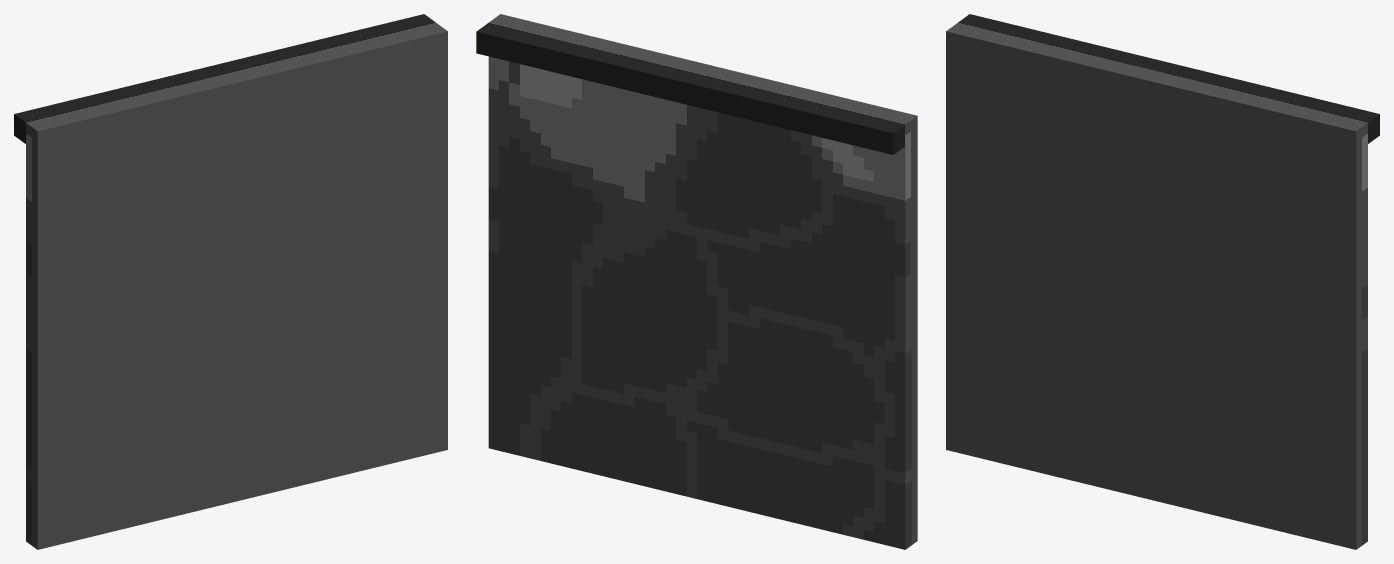
File: WallNether_ML.fbx
The picture shows the model from 3 angles, left to right: view 1: azimuth 30°, elevation 25°; view 2: azimuth 150°, elevation 25°; view 3: azimuth 330°, elevation 25°; orthographic projection.
Parts seen in each view (by area): view 1: WallNether_ML.Merged; view 2: WallNether_ML.Merged; view 3: WallNether_ML.Merged.
Boxes of the visible parts, x1,y1,x2,y2 form: WallNether_ML.Merged: (14,14,447,549); WallNether_ML.Merged: (476,14,917,549); WallNether_ML.Merged: (946,14,1379,549).
Bounding box in the file's own units: 8000 × 7800 × 800.
